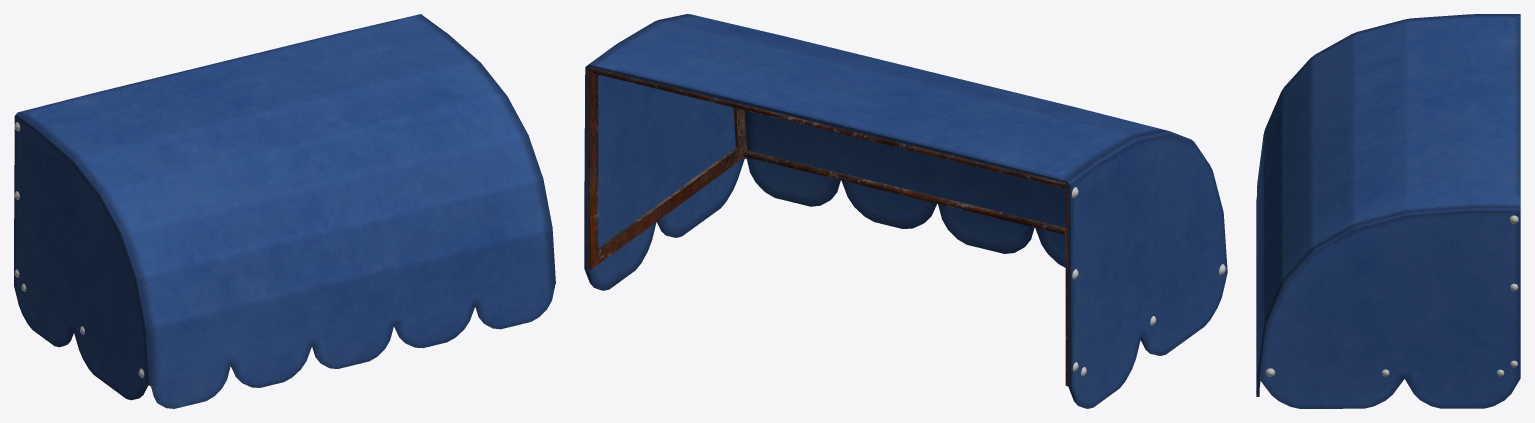
The model's file is Awning_01.FBX.
The picture shows the model from 3 angles, left to right: view 1: azimuth 30°, elevation 25°; view 2: azimuth 150°, elevation 25°; view 3: azimuth 270°, elevation 25°; orthographic projection. The views are drawn at different scales.
Parts seen in each view (by area): view 1: Awning_01; view 2: Awning_01; view 3: Awning_01.
Boxes of the visible parts, bbox=[...] form: Awning_01: bbox=[14, 14, 555, 408]; Awning_01: bbox=[584, 14, 1227, 408]; Awning_01: bbox=[1256, 14, 1520, 408].
Size of the model in its own units: 153 by 72.3 by 86.14.
